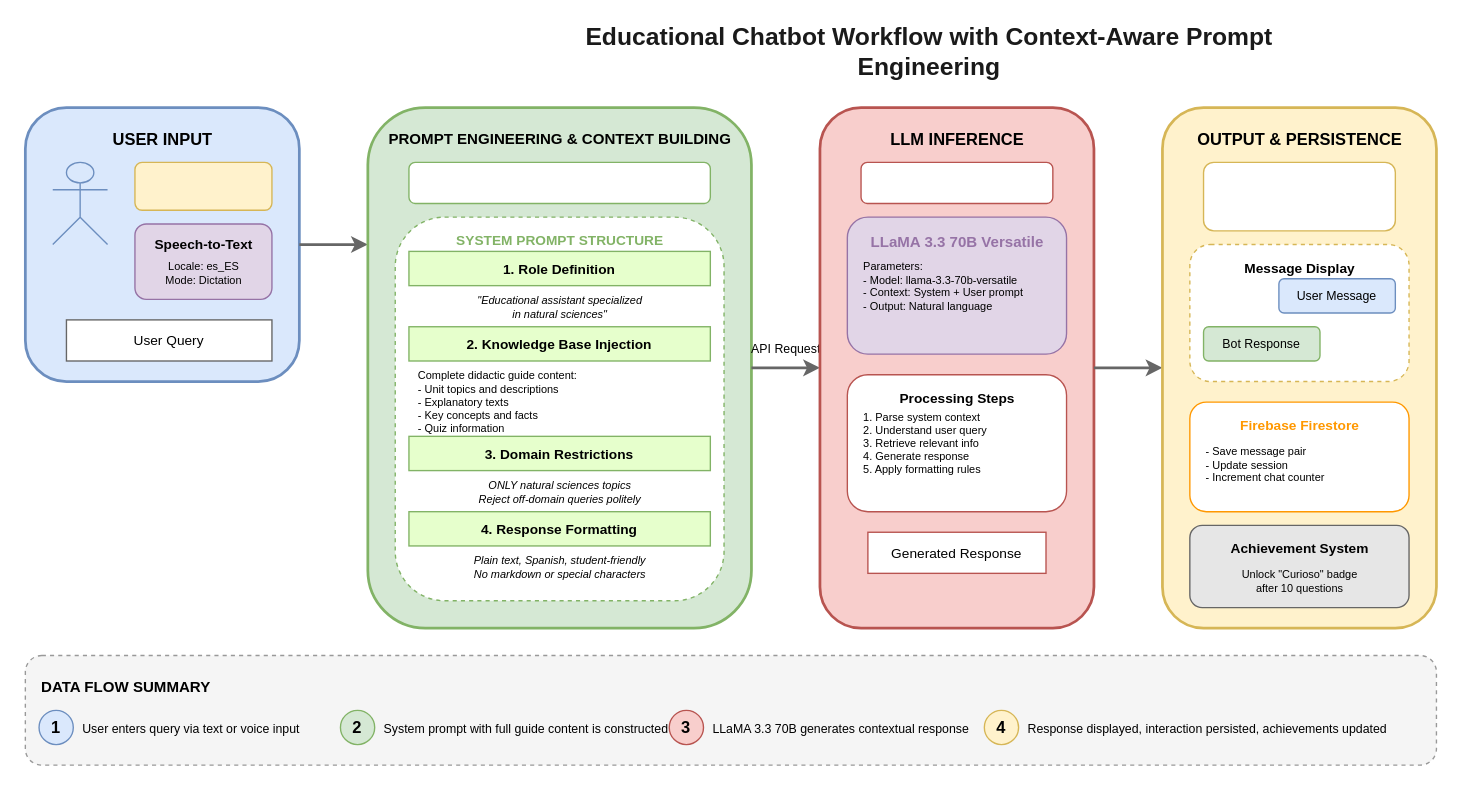
This 1460x789 diagram has some shape labels left out. Here are the shapes that lost their labels. From the top down, the centre of each, then its label:
pixel 203 185: Text Input
pixel 559 182: GuiaContextService
pixel 956 182: Groq API
pixel 1298 196: Chat Interface Rendering
pixel 79 203: Student
